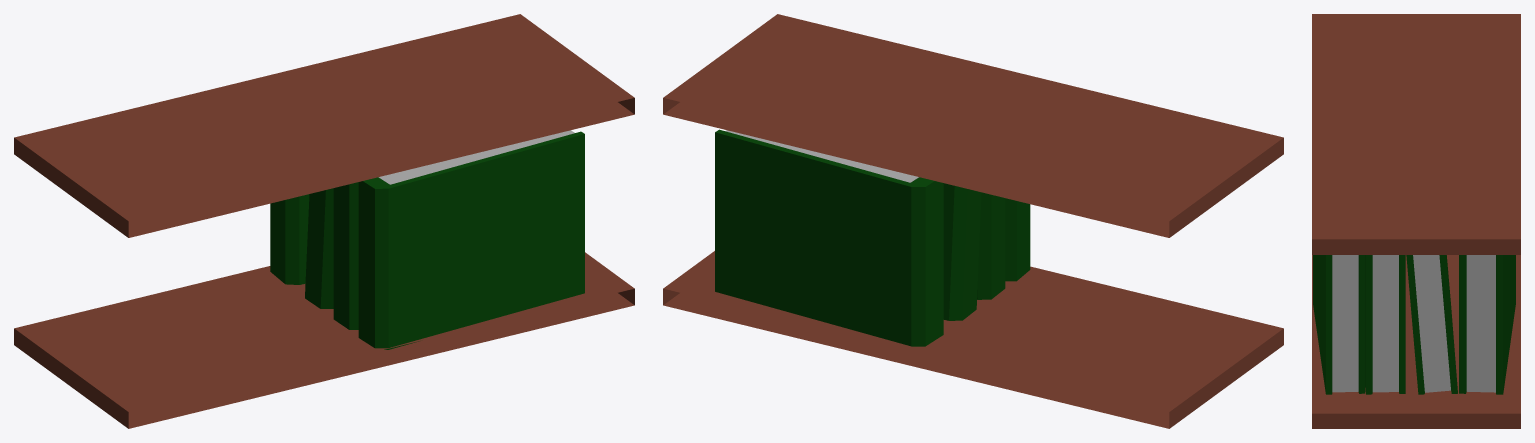
Rendered from LibShelf_Mid.fbx.
3 renders of one model, left to right at view 1: azimuth 30°, elevation 25°; view 2: azimuth 150°, elevation 25°; view 3: azimuth 270°, elevation 25°, orthographic. The views are drawn at different scales.
Visible parts, largest first — view 1: LibraryBookshelf_Mid; view 2: LibraryBookshelf_Mid; view 3: LibraryBookshelf_Mid.
Part boxes in pixels (x1,y1,x2,y2): LibraryBookshelf_Mid: [14, 14, 634, 428]; LibraryBookshelf_Mid: [663, 14, 1283, 428]; LibraryBookshelf_Mid: [1312, 14, 1520, 428].
Size of the model in its own units: 510 by 200 by 200.
